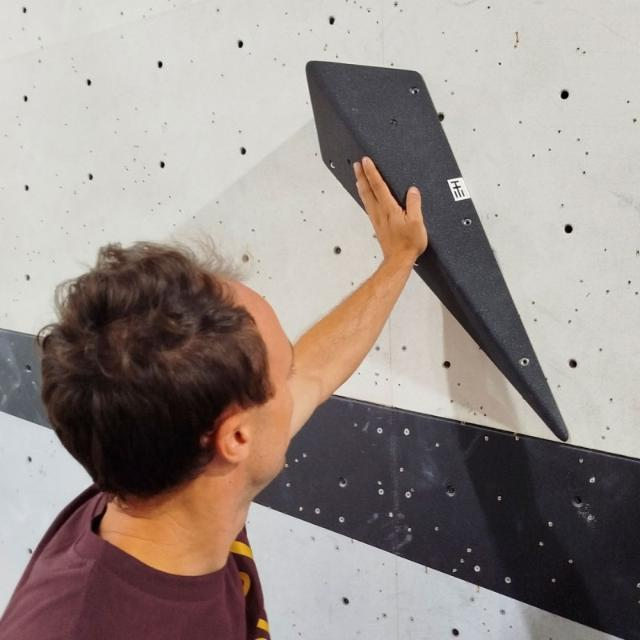Volume: (303, 59, 569, 442)
